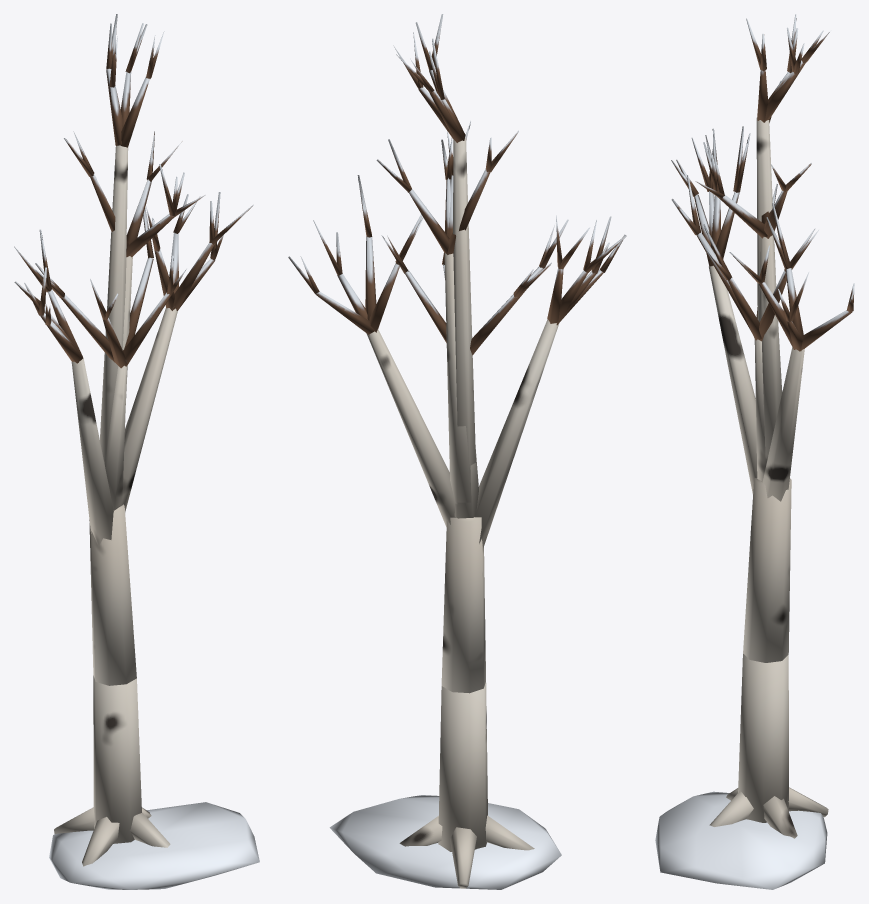
File: season_decid_b_winter.glb
3 views of the same model, side by side, from view 1: azimuth 30°, elevation 25°; view 2: azimuth 150°, elevation 25°; view 3: azimuth 270°, elevation 25° (orthographic). The views are drawn at different scales.
Parts seen in each view (by area): view 1: basesnow; view 2: basesnow; view 3: basesnow.
Boxes of the visible parts, left/top/right/bottom form: basesnow: left=14, top=14, right=259, bottom=889; basesnow: left=288, top=14, right=626, bottom=889; basesnow: left=655, top=14, right=854, bottom=889.
Size of the model in its own units: 1.51 by 4.63 by 0.9948.
Materials: 1 (1 with a texture image).
